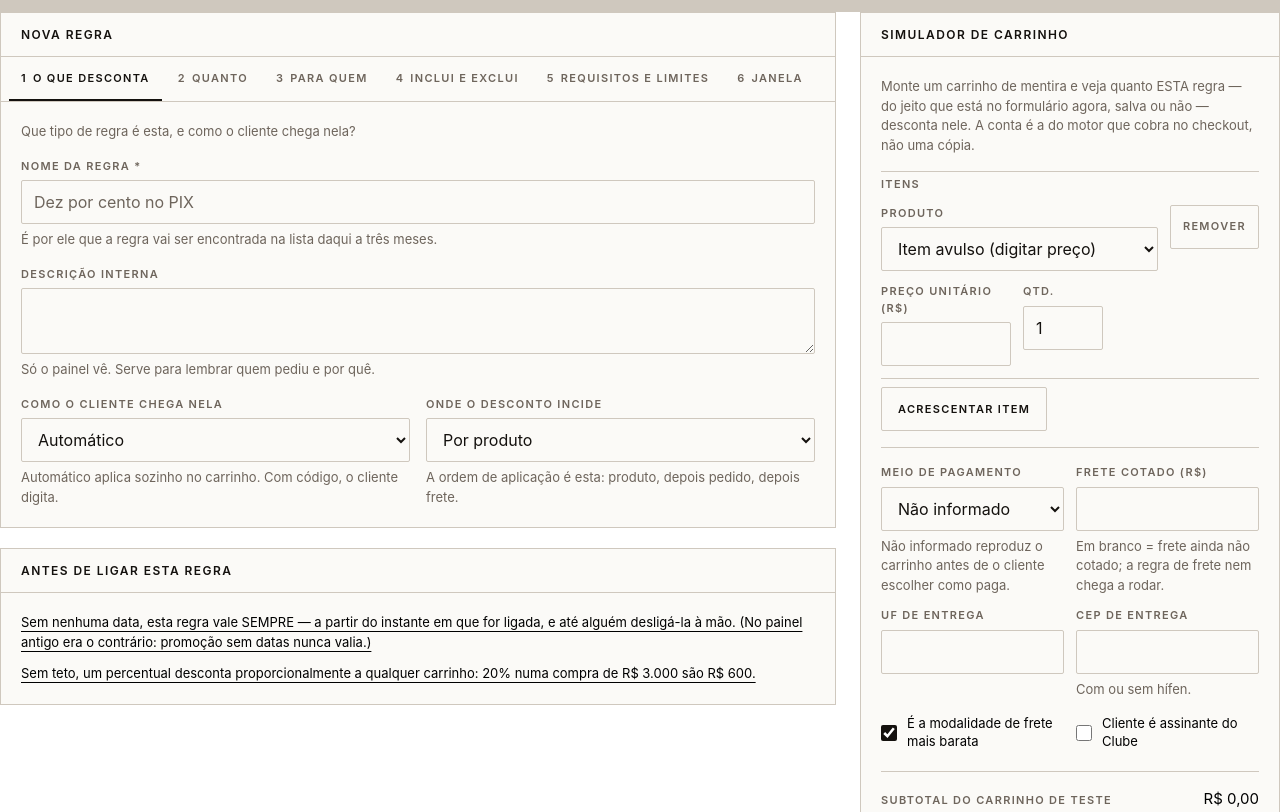
Test: a barra de salvar é contextual — R5 › salvar com erro leva ao PASSO do erro, em vez de só dizer que ele existe
Click the tab "2 Quanto". click: x=213, y=79
box: [166,57,260,101]
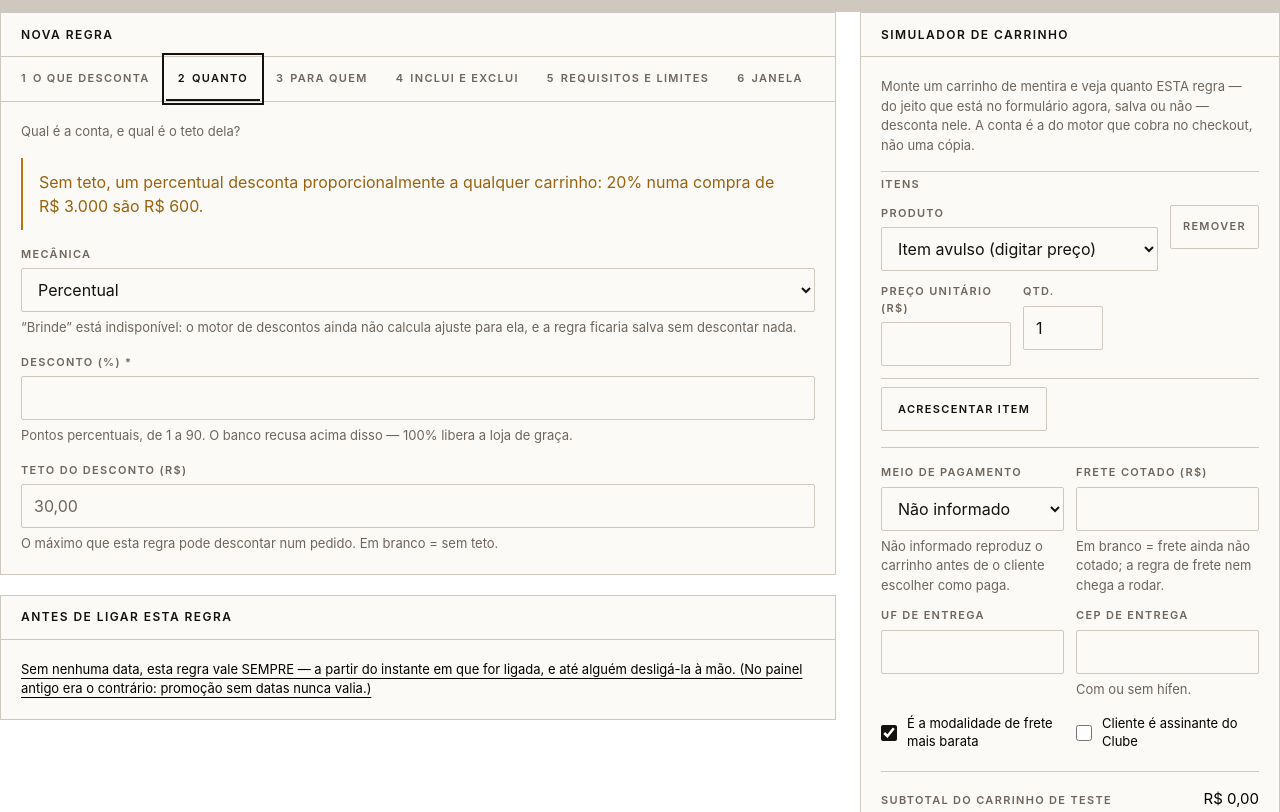
Type "10" into the field labelled "Desconto (%) *". click: x=418, y=398
box: [21,376,815,420]
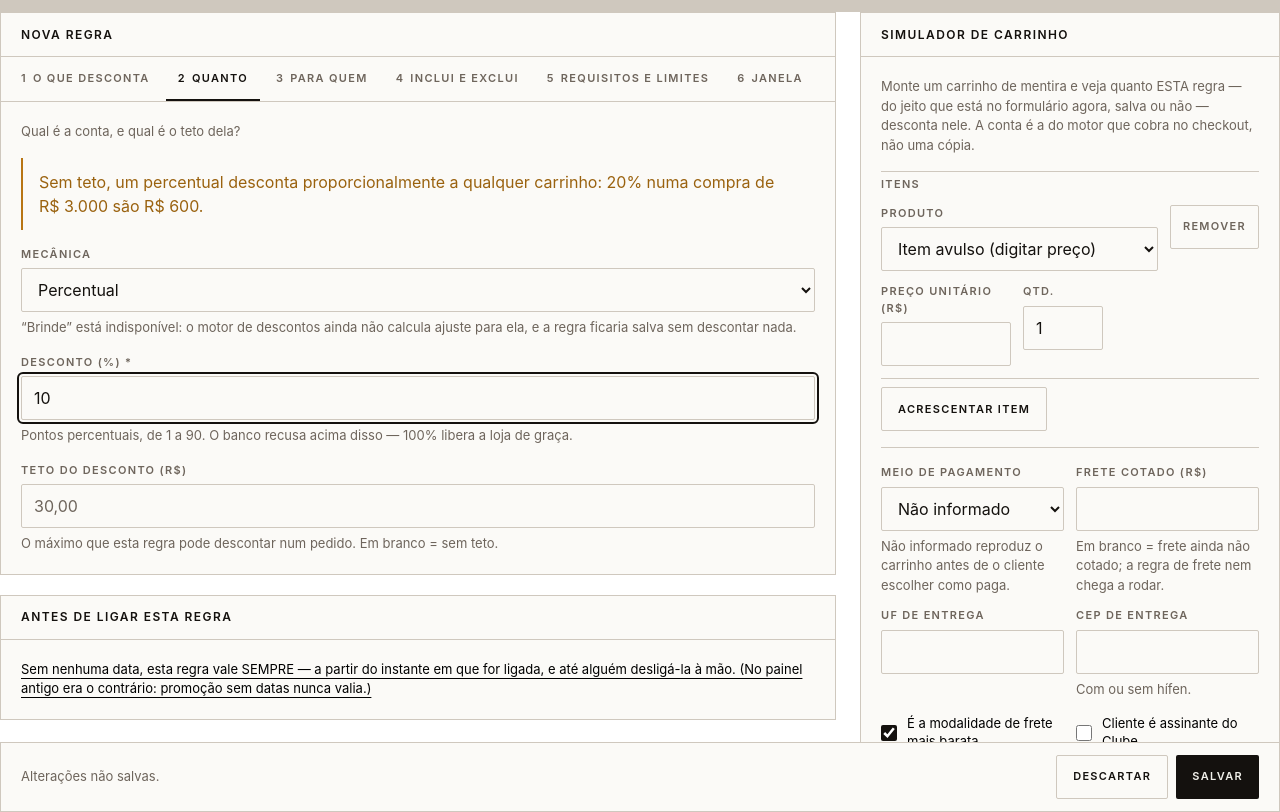
Click the button "Salvar". click: x=1218, y=777
box: [1176,755,1259,799]
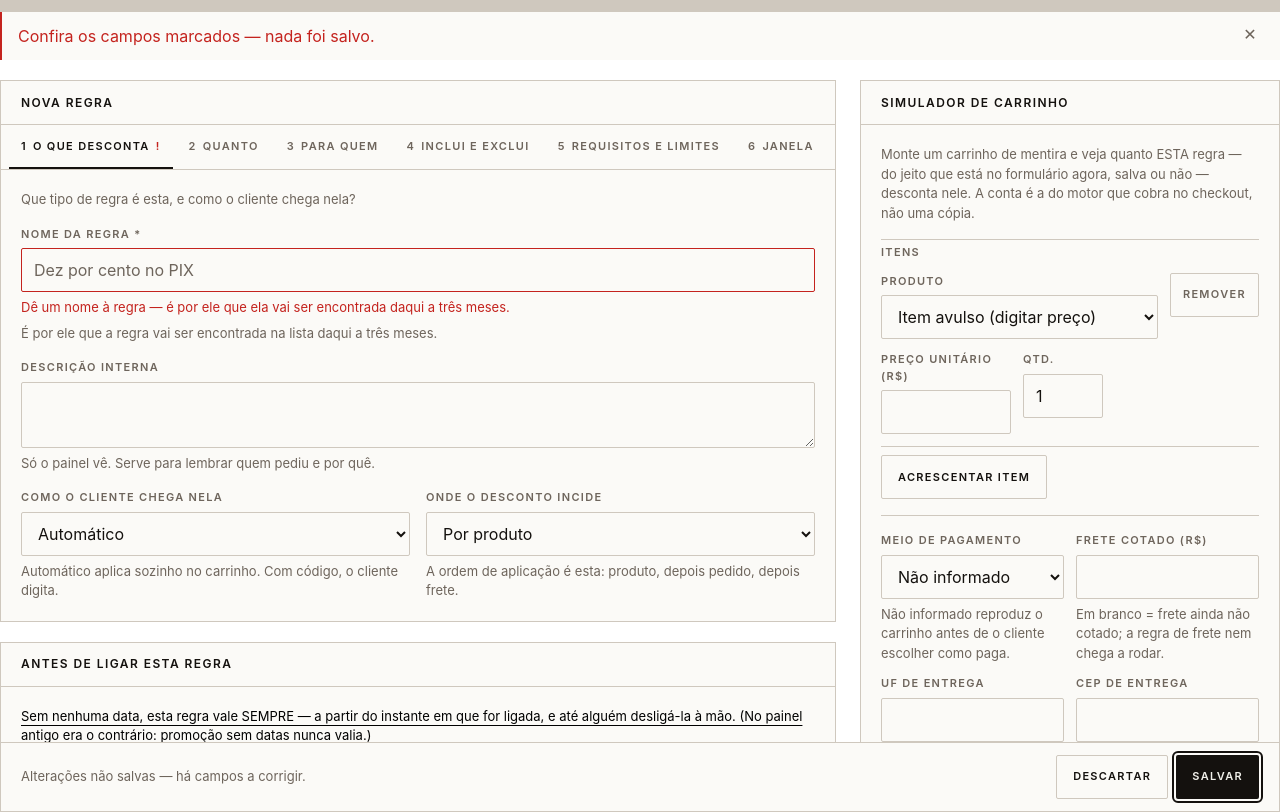
Now the message shows "nada foi salvo", box [18,26,374,46]
